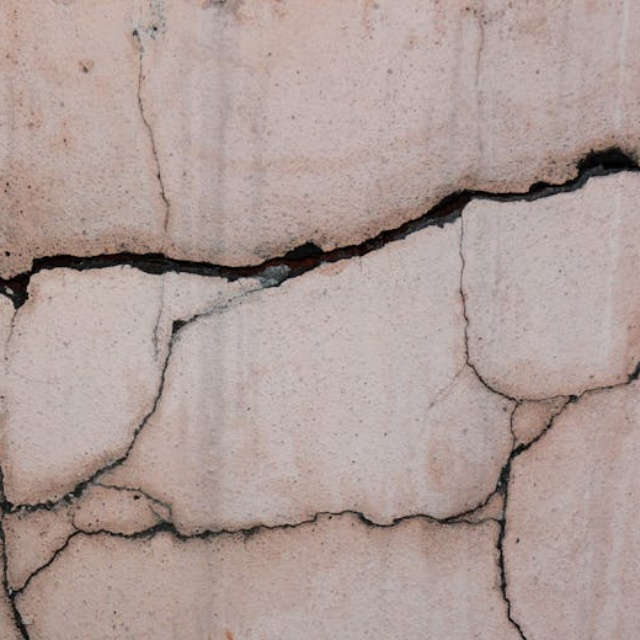细微裂纹: (287, 217, 566, 640), (455, 333, 576, 640), (525, 325, 640, 640), (494, 340, 613, 640), (409, 347, 530, 640), (415, 119, 509, 465), (557, 320, 640, 640), (605, 99, 640, 428)
网状裂隙: (72, 91, 514, 640), (92, 26, 225, 585)
